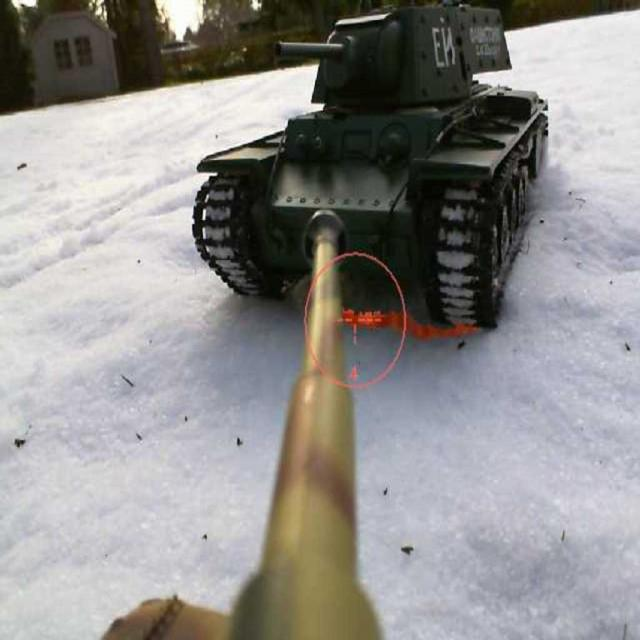tank: (96, 207, 385, 638), (189, 0, 547, 328)
